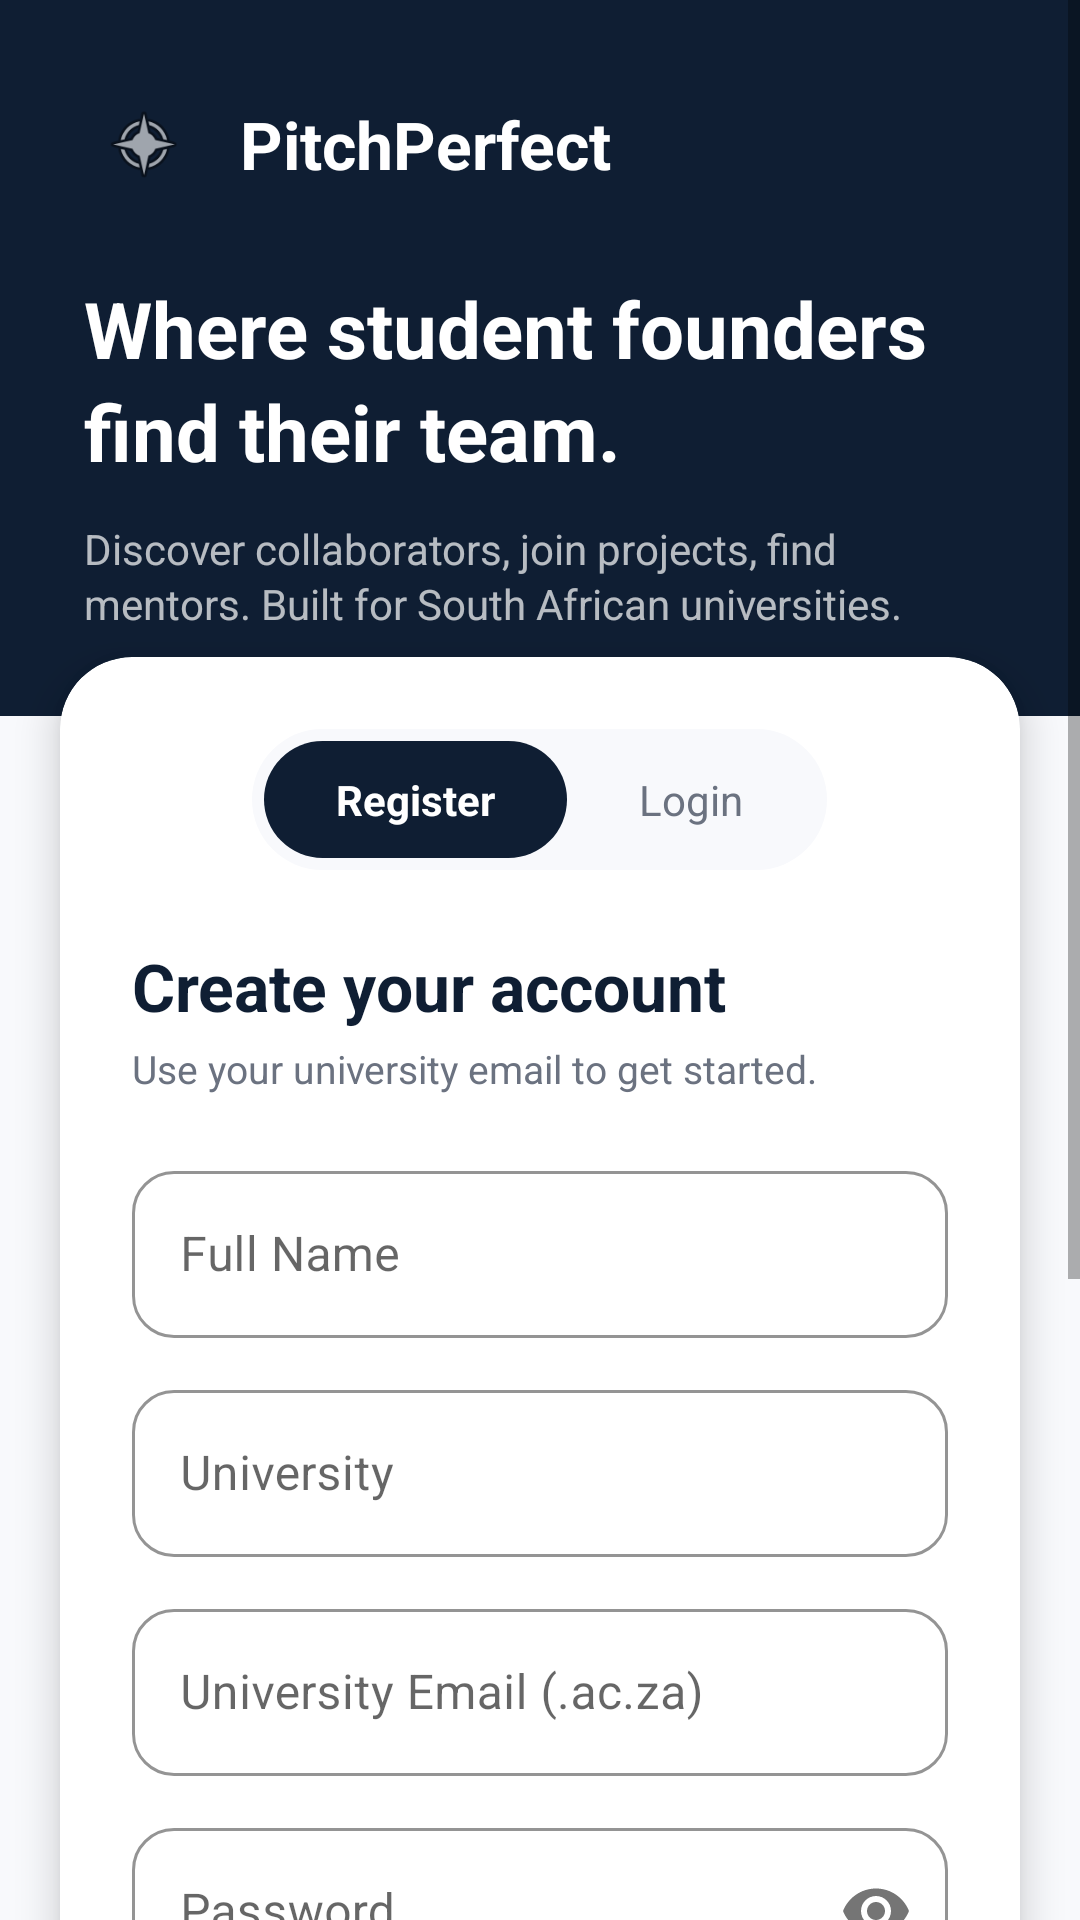

Screen size 1080×1920. Icon name, then its box in pixels as (x1, y1, x2, y2):
compass: (114, 115, 174, 175)
